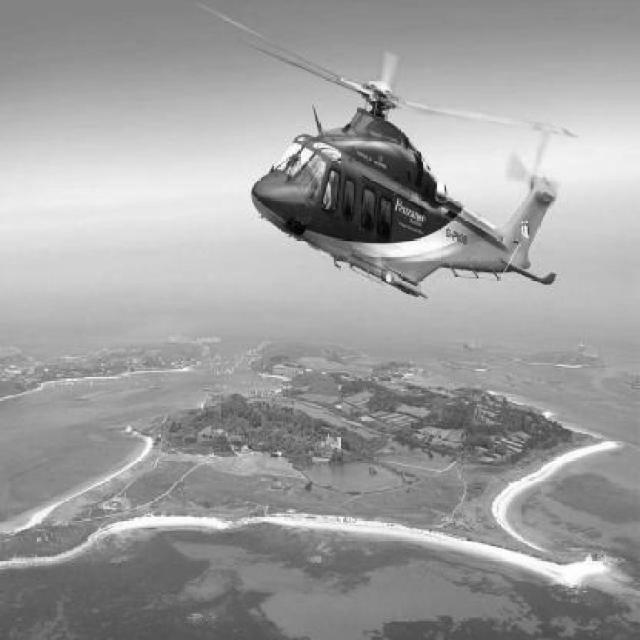helikopter: (215, 11, 580, 330)
